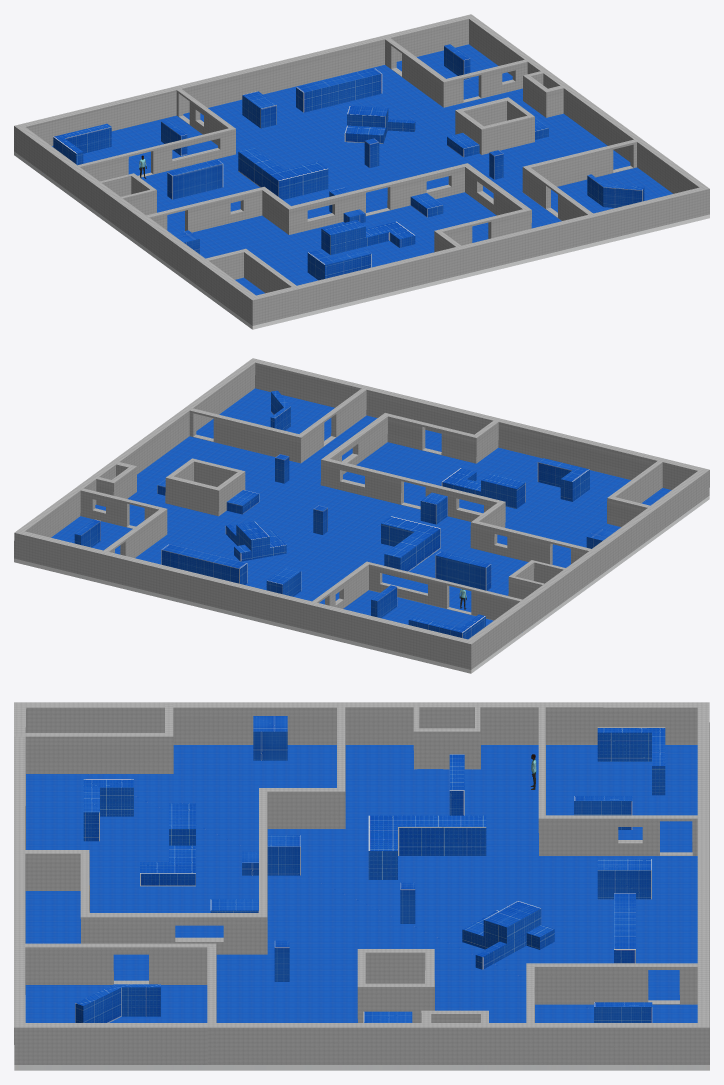
Rendered from shooter map.fbx.
3 views of the same model, one above another, from view 1: azimuth 30°, elevation 25°; view 2: azimuth 150°, elevation 25°; view 3: azimuth 270°, elevation 25° (orthographic). The views are drawn at different scales.
Parts seen in each view (by area): view 1: Plane.006; view 2: Plane.006; view 3: Plane.006.
Boxes of the visible parts, box(x1,y1,x2,y2) form: Plane.006: box(14, 14, 709, 329); Plane.006: box(14, 358, 709, 673); Plane.006: box(14, 702, 709, 1070).
Size of the model in its own units: 374 by 22.99 by 338.
Materials: 5 (4 with a texture image).
